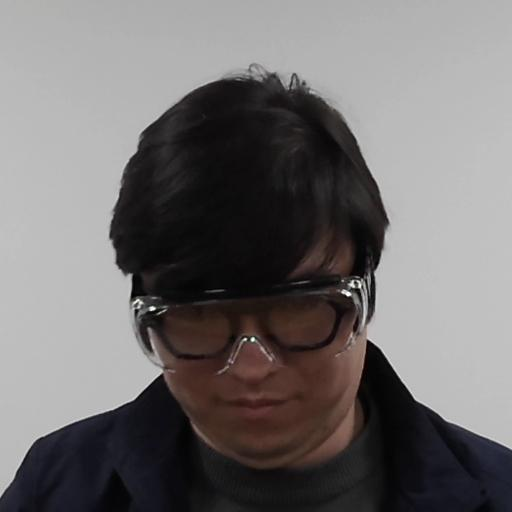glasses: (93, 72, 392, 462)
